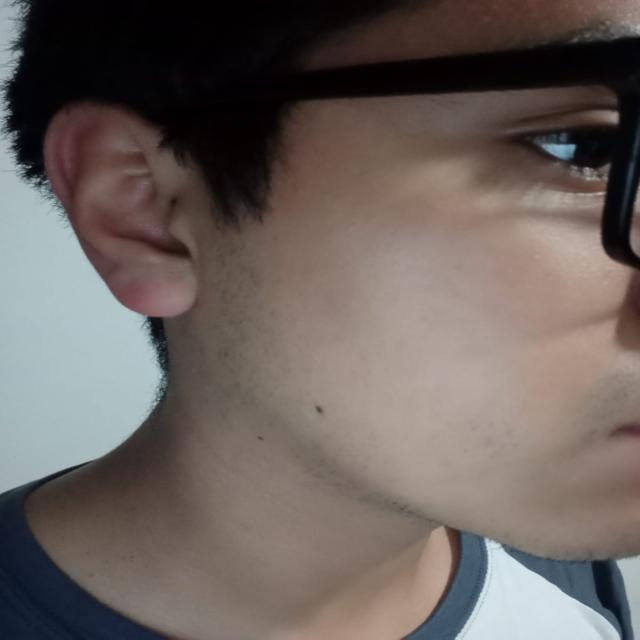ear: (45, 101, 207, 318)
